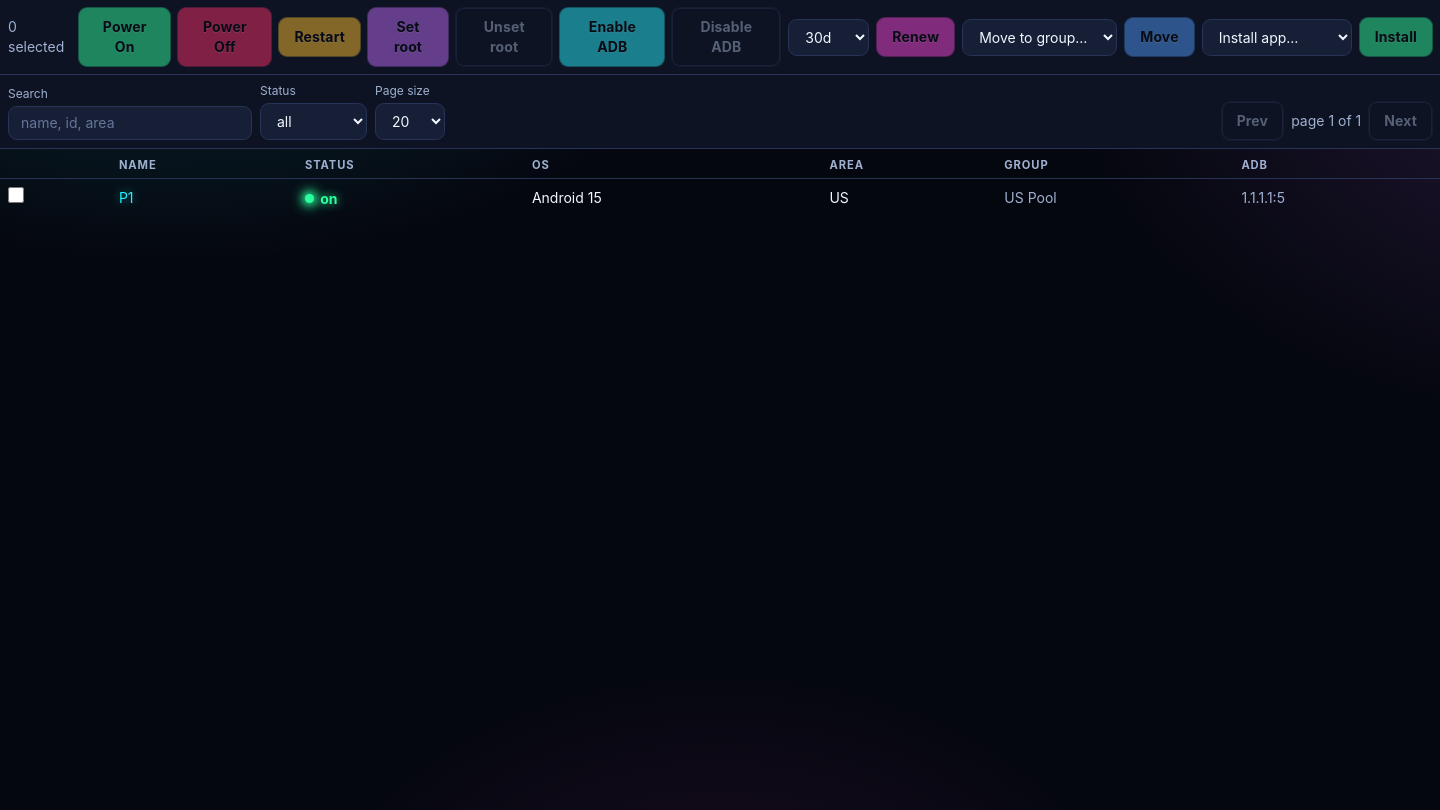
Test case: FleetPage › shows the batch power result summary after a power op
The width and height of the screenshot is (1440, 810).
Expected: the button "P1" is shown, [119,187,134,208]
Click the checkbox named "select cp-1" at [16, 195], box [8,187,24,203]
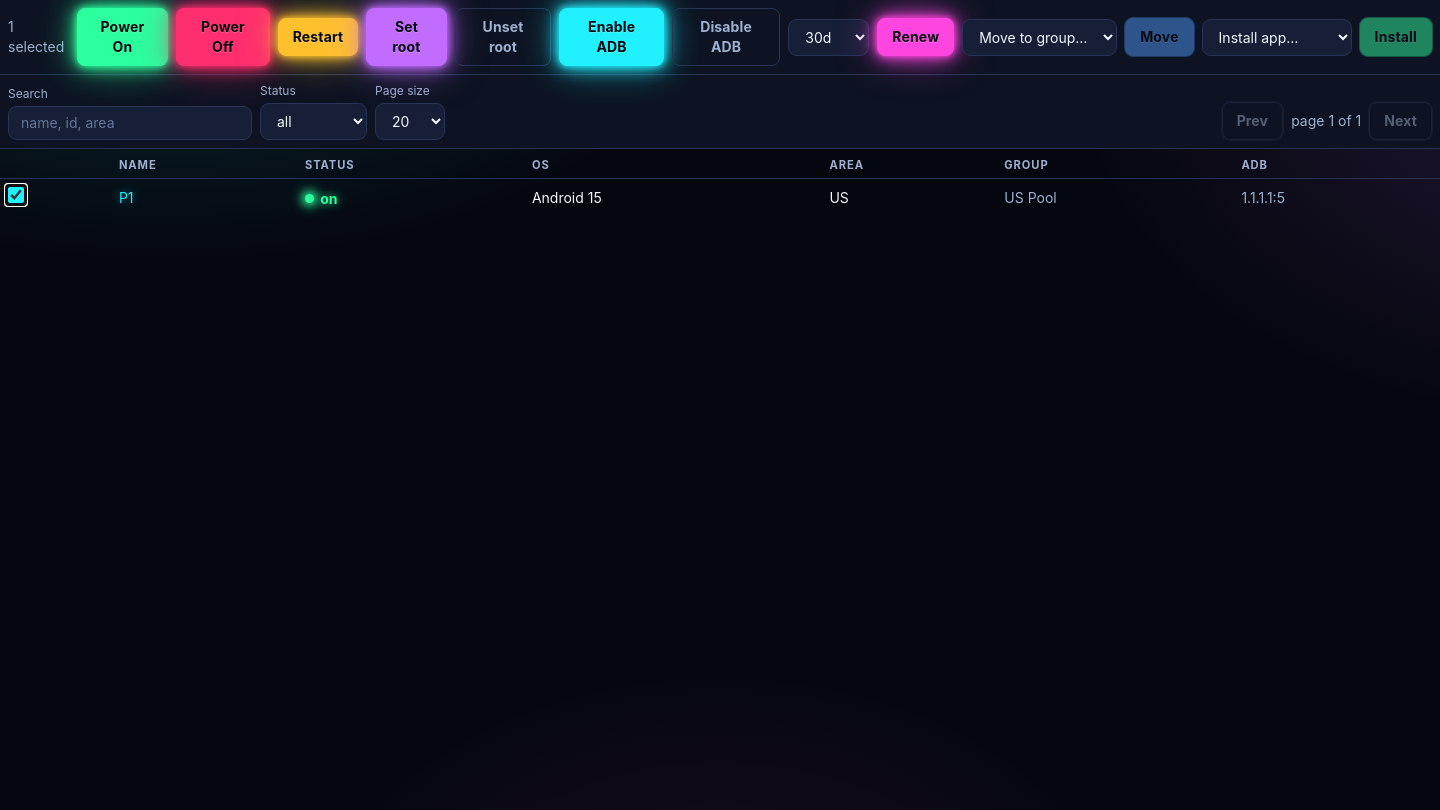
Click the button "Power On" at [122, 37], box [77,8,168,66]
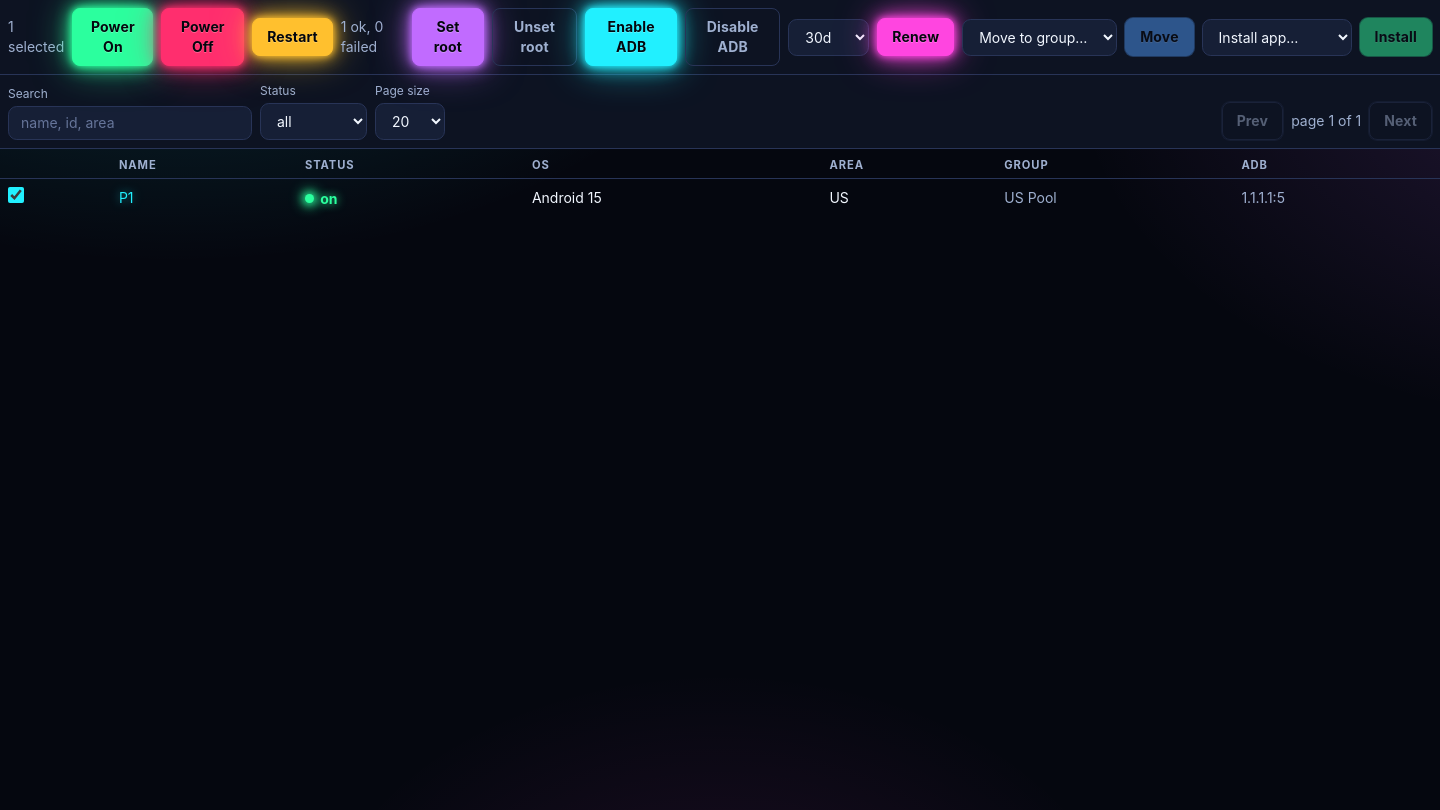
Expected: the text "1 ok, 0 failed" is shown, [341,18,383,55]
